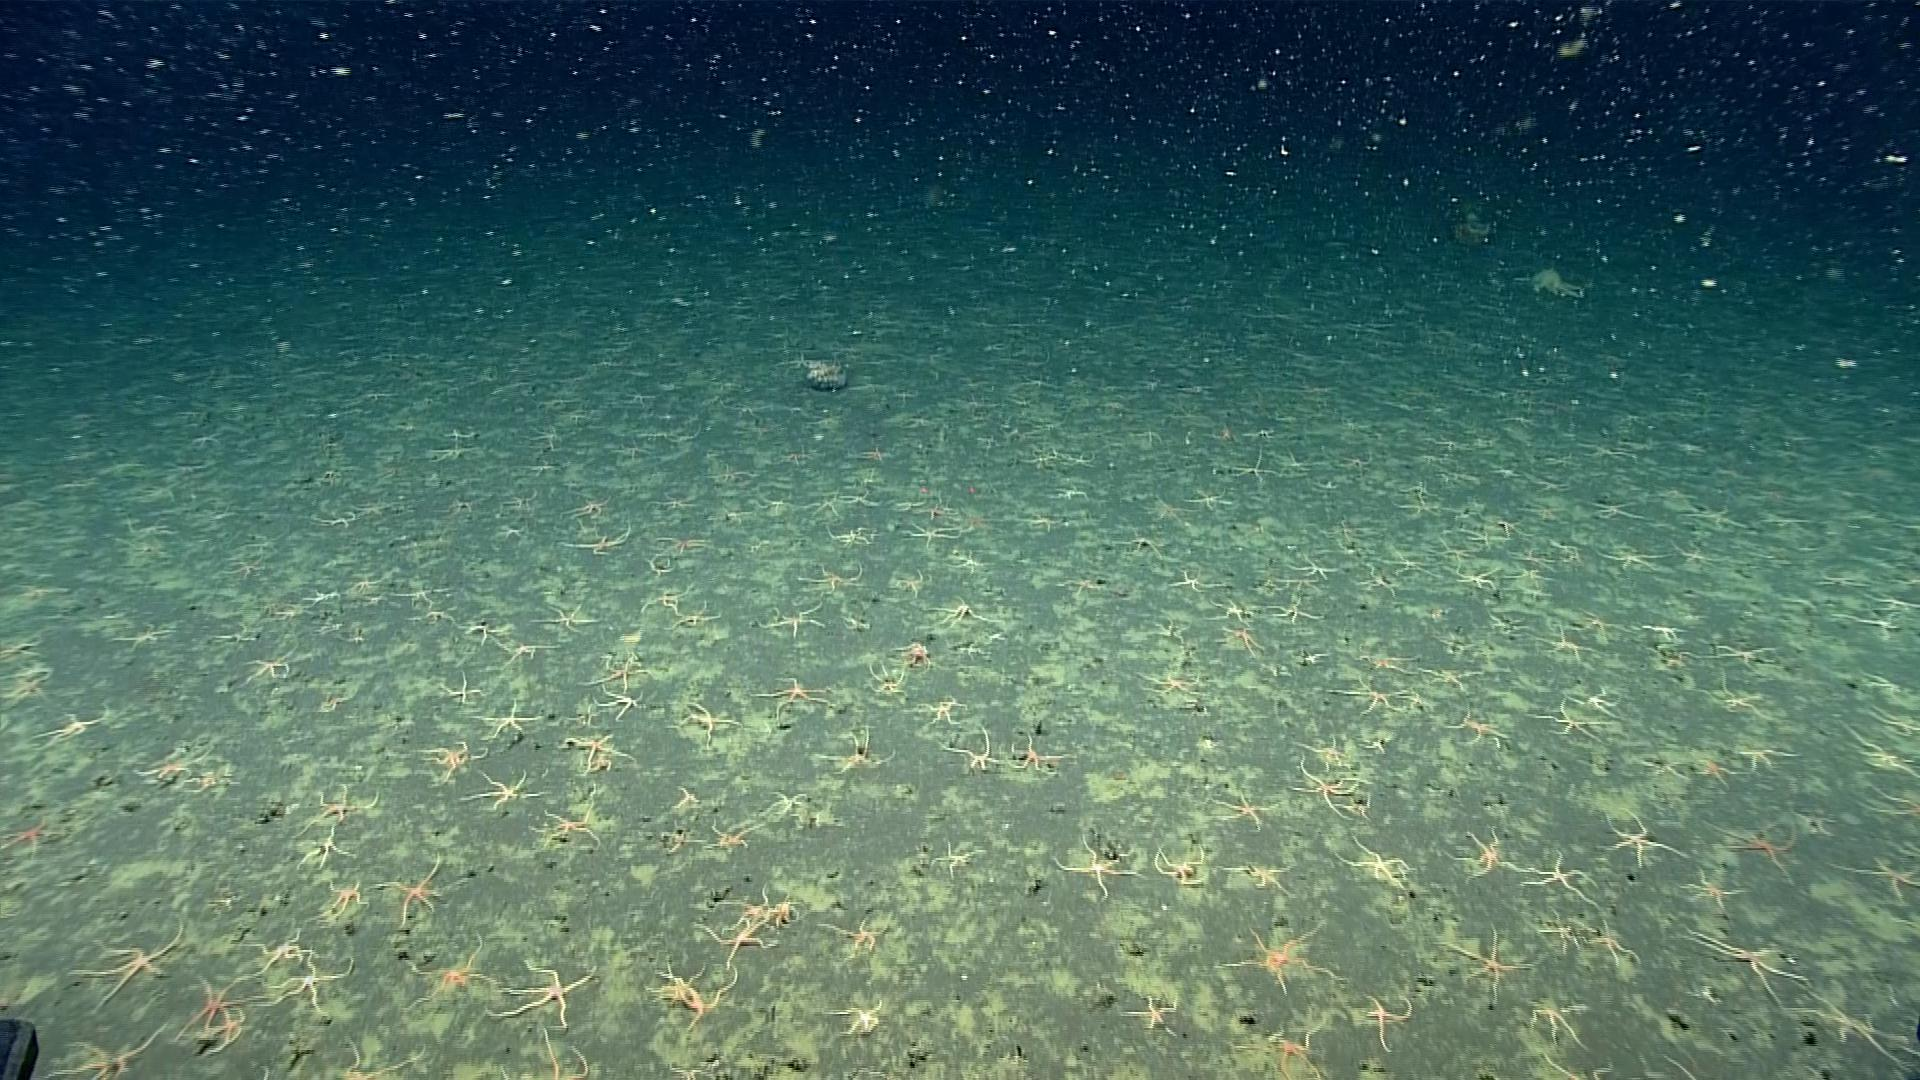brittle_sea_star: (63, 918, 182, 1013), (1779, 981, 1905, 1063), (1213, 922, 1346, 998), (1681, 926, 1811, 1004), (1433, 922, 1535, 1005), (252, 951, 356, 1027), (484, 963, 599, 1031), (38, 1021, 171, 1079), (174, 968, 253, 1059), (405, 928, 495, 1006), (1052, 831, 1143, 903), (644, 959, 737, 1026), (1709, 814, 1799, 884), (1510, 848, 1601, 909), (1441, 828, 1536, 886), (373, 853, 444, 927), (1597, 811, 1689, 866), (520, 591, 612, 645), (692, 913, 773, 972), (1829, 851, 1919, 902), (1287, 754, 1353, 822), (812, 724, 897, 775), (1332, 833, 1410, 889), (339, 1035, 431, 1079), (460, 766, 549, 811), (1523, 998, 1596, 1051), (719, 886, 800, 932), (1528, 696, 1614, 740), (531, 794, 600, 848), (1691, 670, 1770, 716), (414, 737, 487, 786), (665, 702, 738, 749), (1328, 674, 1412, 715), (559, 729, 633, 774), (936, 725, 1002, 775), (1577, 919, 1643, 969), (1677, 866, 1749, 913), (753, 676, 829, 719), (816, 915, 882, 964), (0, 810, 69, 855), (1361, 994, 1412, 1052), (472, 700, 541, 744), (1261, 1030, 1323, 1076), (535, 1027, 591, 1079), (30, 713, 105, 750), (1215, 861, 1292, 897), (251, 926, 307, 975), (315, 781, 380, 823), (1005, 735, 1069, 777), (293, 823, 353, 868), (1527, 624, 1596, 663), (1439, 705, 1507, 745), (1534, 905, 1586, 955), (1121, 997, 1180, 1039), (753, 603, 825, 637), (1150, 844, 1204, 889), (108, 620, 175, 655), (1859, 785, 1919, 824), (578, 654, 644, 690), (1208, 793, 1266, 832), (135, 746, 194, 785), (928, 839, 984, 880), (556, 526, 625, 559), (754, 785, 818, 820), (1137, 667, 1203, 699), (798, 560, 864, 592), (828, 1000, 884, 1036), (1208, 622, 1263, 658), (0, 662, 51, 700), (1833, 607, 1900, 636), (393, 579, 460, 608), (591, 680, 645, 716), (914, 694, 964, 732), (1298, 729, 1354, 762), (661, 603, 721, 633), (1572, 682, 1621, 719), (216, 549, 266, 583), (861, 658, 907, 695), (245, 647, 294, 682), (1266, 593, 1320, 624), (930, 599, 984, 628), (500, 637, 558, 663), (1160, 570, 1221, 595), (1284, 551, 1335, 582), (1734, 744, 1793, 769), (1710, 640, 1776, 662), (183, 767, 239, 794), (704, 823, 749, 855), (463, 616, 509, 646), (327, 878, 365, 914), (1449, 563, 1498, 589), (1205, 597, 1251, 625), (943, 550, 986, 579), (343, 568, 388, 596), (657, 824, 696, 853), (1536, 1051, 1577, 1079), (1647, 1052, 1689, 1079), (448, 671, 481, 704), (414, 604, 458, 626), (1697, 760, 1734, 786), (667, 785, 700, 811), (895, 642, 931, 666), (301, 584, 340, 605), (269, 603, 305, 621), (1899, 1030, 1919, 1051)
